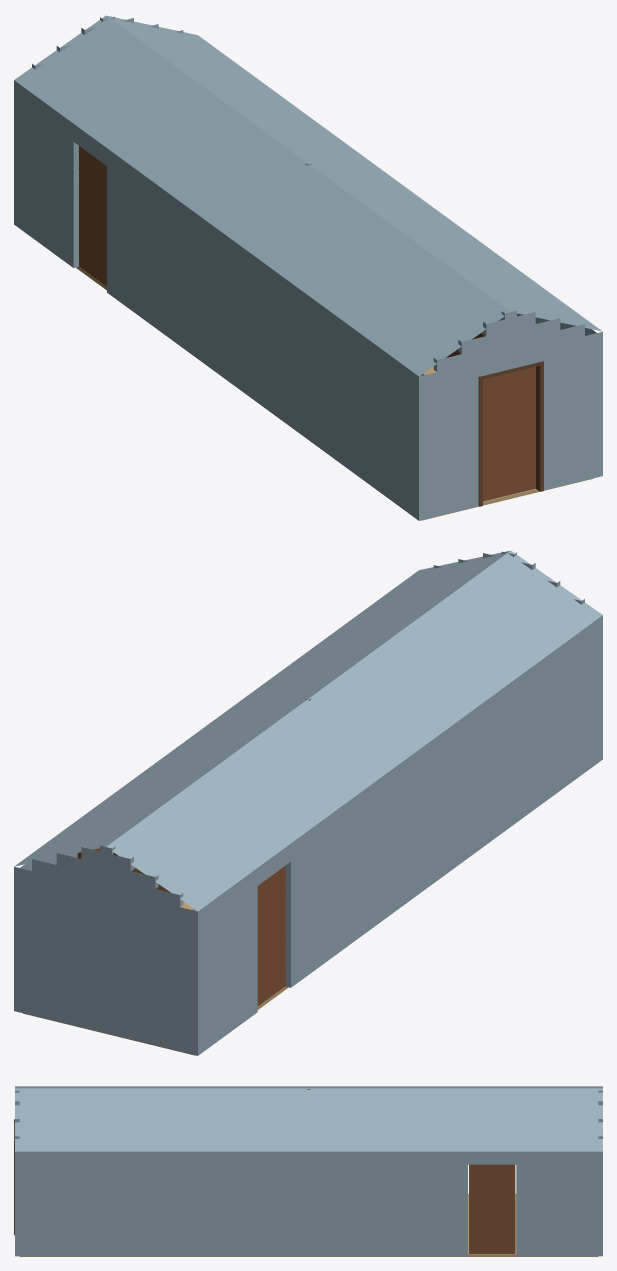
The model's file is room_corridor_attic.glb.
3 views of the same model, one above another, from view 1: azimuth 30°, elevation 25°; view 2: azimuth 150°, elevation 25°; view 3: azimuth 270°, elevation 25° (orthographic). The views are drawn at different scales.
Parts seen in each view (by area): view 1: WALLS, CEILING, DOOR_bath, DOOR_game, FRAMES; view 2: WALLS, CEILING, DOOR_game; view 3: WALLS, CEILING, DOOR_study, FLOOR_visible.
Boxes of the visible parts, x1,y1,x2,y2 form: WALLS: (14,16,602,520); CEILING: (14,15,602,376); DOOR_bath: (483,367,535,501); DOOR_game: (79,146,106,286); FRAMES: (78,151,543,506); WALLS: (14,551,602,1055); CEILING: (14,550,602,911); DOOR_game: (257,865,285,1005); WALLS: (15,1090,602,1256); CEILING: (15,1086,602,1151); DOOR_study: (469,1164,515,1253); FLOOR_visible: (19,1252,598,1256).
Size of the model in its own units: 3.2 by 3.16 by 12.22.
